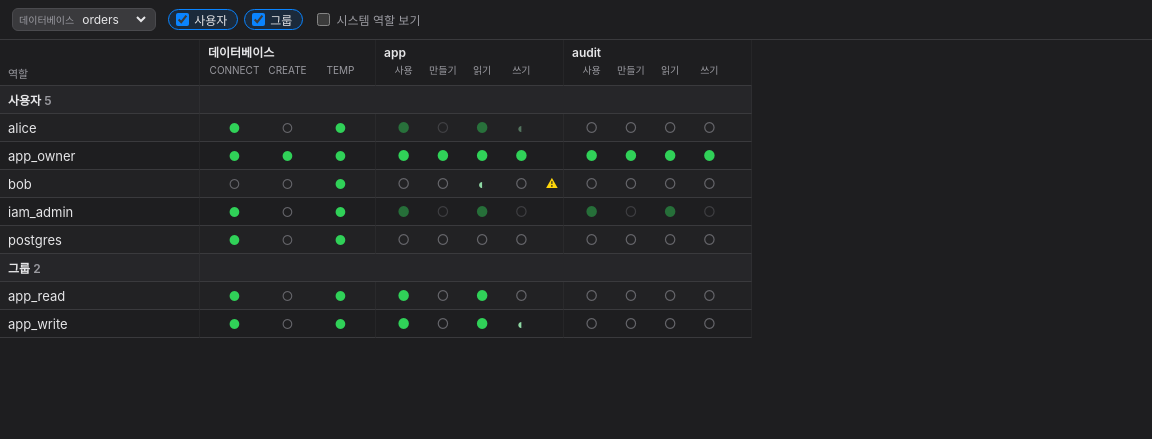
Scenario: the rows › have the same toggle as the role list: the system roles come in as groups
Click the checkbox labelled "시스템 역할 보기": (324, 20) [317,13,330,26]
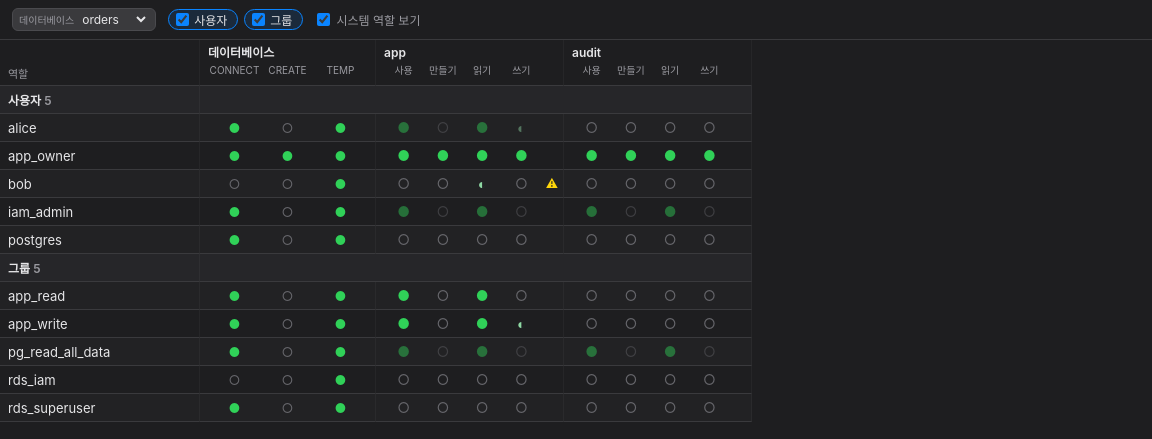
Click the checkbox labelled "시스템 역할 보기": (324, 20) [317,13,330,26]
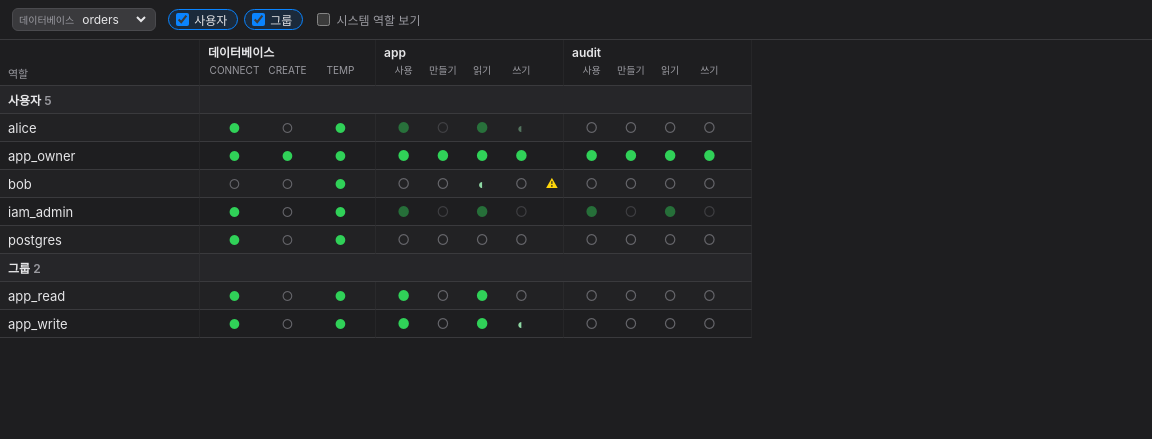
Expected: the column heading "rds_superuser" is gone
